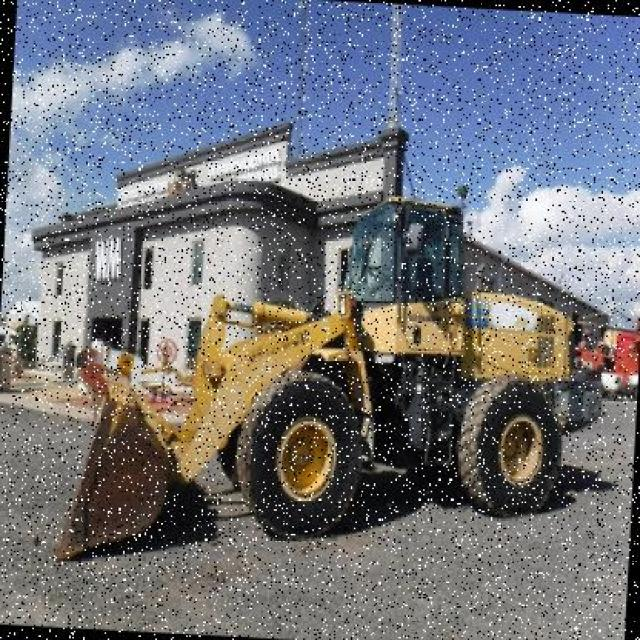buldozerpayloadergrader: (49, 165, 632, 612)
